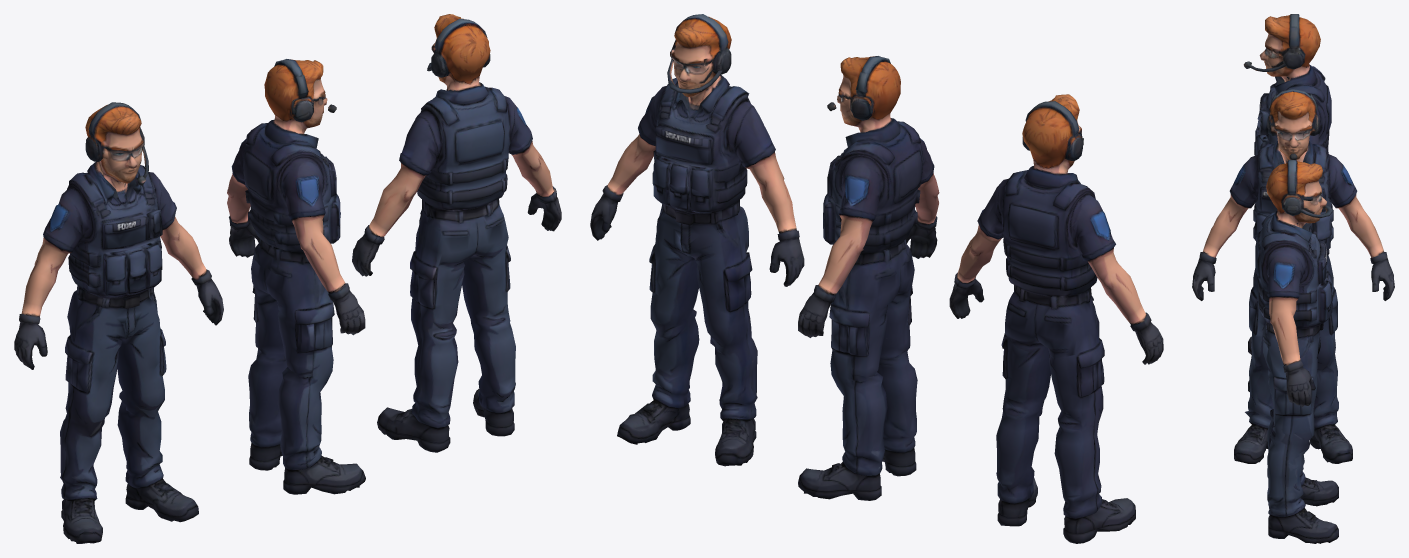
Rendered from tripo_convert_4dfe17ce-5be1-4212-ab4f-9ea68c4aea79.fbx.
The picture shows the model from 3 angles, left to right: view 1: azimuth 30°, elevation 25°; view 2: azimuth 150°, elevation 25°; view 3: azimuth 270°, elevation 25°; orthographic projection. The views are drawn at different scales.
Parts seen in each view (by area): view 1: tripo_node_4dfe17ce; view 2: tripo_node_4dfe17ce; view 3: tripo_node_4dfe17ce.
Boxes of the visible parts, x1,y1,x2,y2 form: tripo_node_4dfe17ce: (14,14,561,543); tripo_node_4dfe17ce: (590,14,1163,543); tripo_node_4dfe17ce: (1192,14,1394,543).
Bounding box in the file's own units: 0.9773 × 0.7057 × 0.3615.
1 material, 1 textured.
